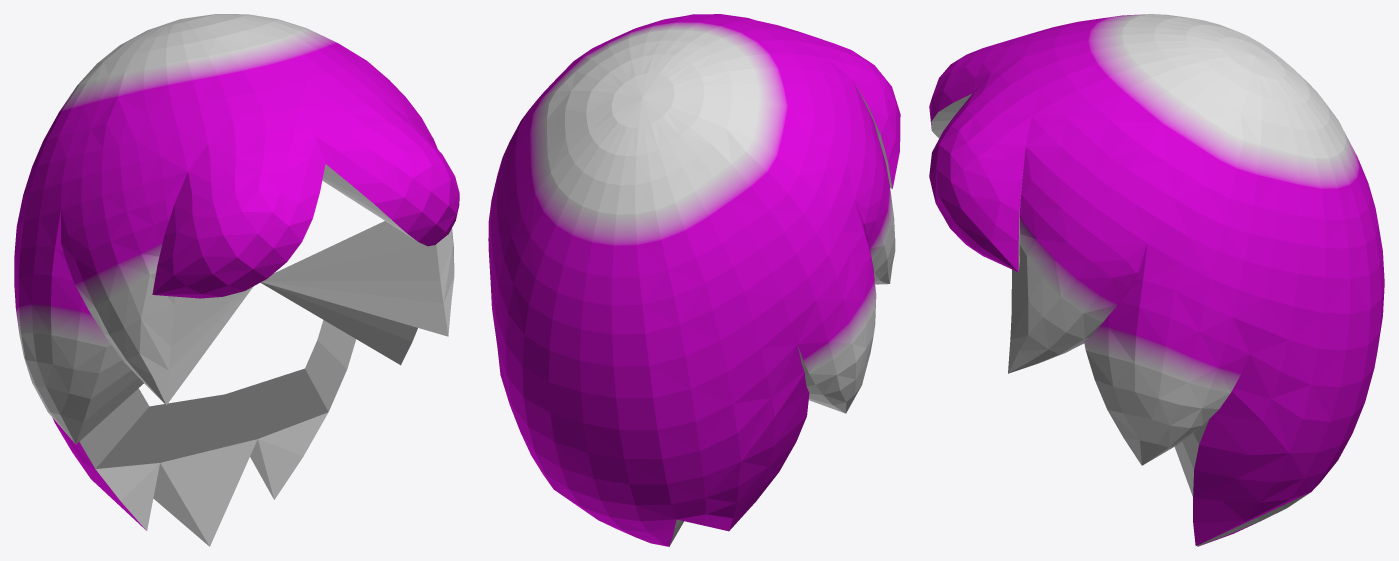
The picture shows the model from 3 angles, left to right: view 1: azimuth 30°, elevation 25°; view 2: azimuth 150°, elevation 25°; view 3: azimuth 270°, elevation 25°; orthographic projection. The views are drawn at different scales.
Parts seen in each view (by area): view 1: shape; view 2: shape; view 3: shape.
Boxes of the visible parts, left/top/right/bottom form: shape: left=14, top=14, right=459, bottom=546; shape: left=488, top=14, right=900, bottom=546; shape: left=929, top=14, right=1384, bottom=546.
Bounding box in the file's own units: 64.25 × 83.31 × 66.97.
